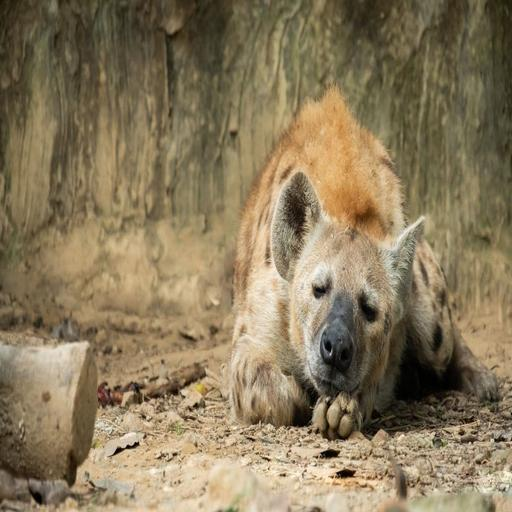Hyena: (222, 76, 505, 450)
